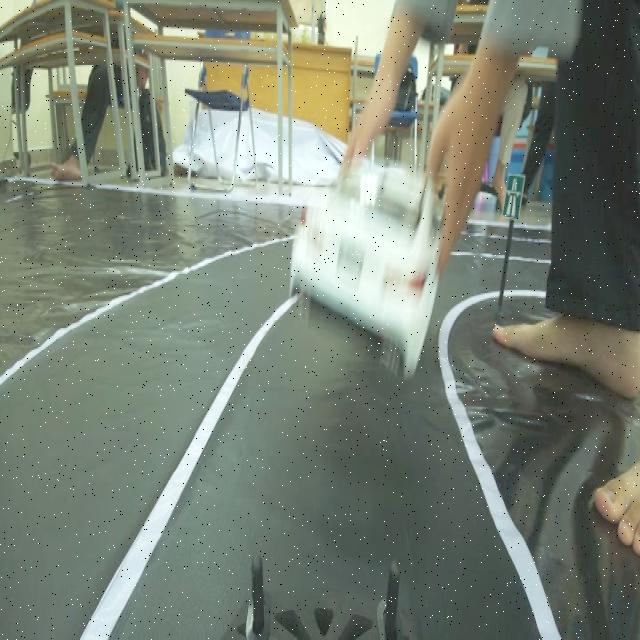highway_entry: (500, 168, 528, 222)
